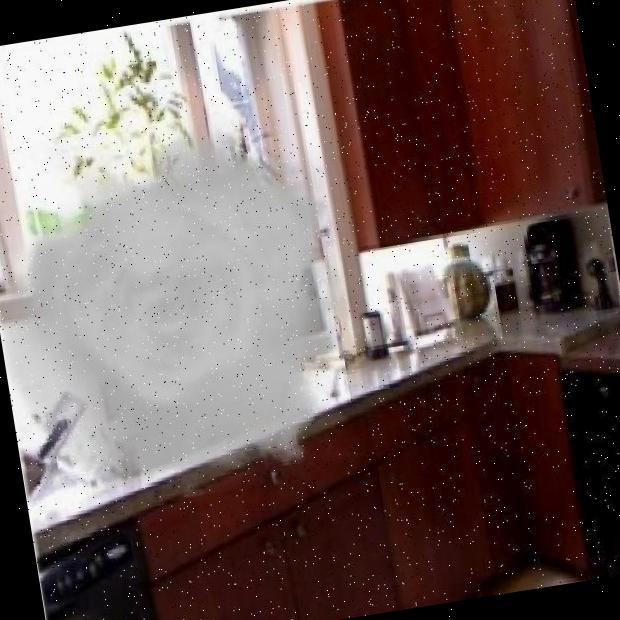smoke: (16, 127, 371, 510)
